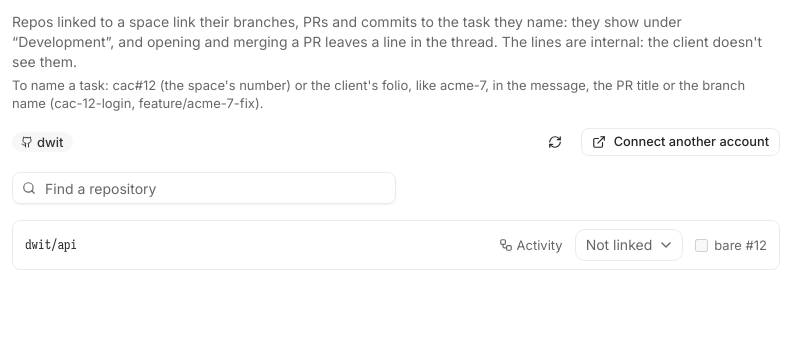
Test: la pestaña GitHub › un repo se enlaza sólo a un espacio de esta org con tareas
Click the dropdown named "dwit/api".
click(629, 245)  # box [575,229,683,261]
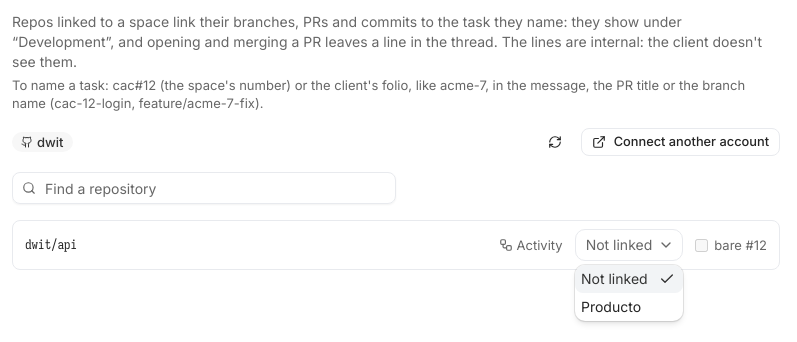
Check: the number of options is 2, box [575,265,683,293]; [581,298,641,315]
Check: the text "Producto" is shown, box [581,297,651,317]
Press Escape in the dropdown named "dwit/api", box [575,229,683,261]
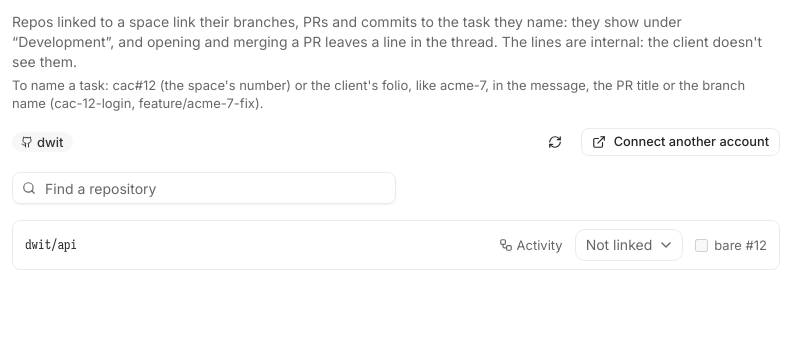
Check: the checkbox labelled "bare #12" is disabled, box [695,238,708,252]
Click the dropdown named "dwit/api".
click(629, 245)  # box [575,229,683,261]
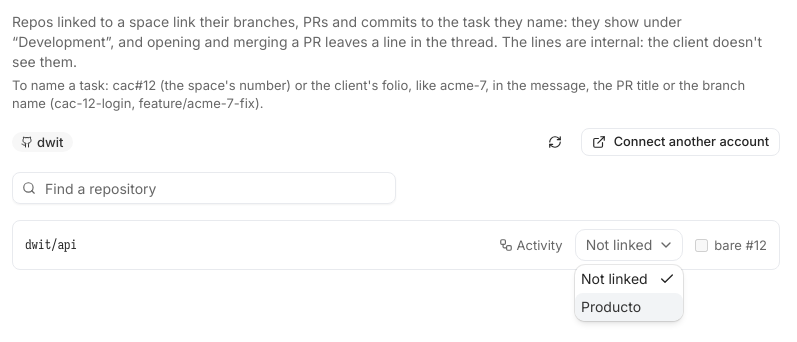
Click the option "Producto".
click(629, 307)  # box [575,293,683,321]
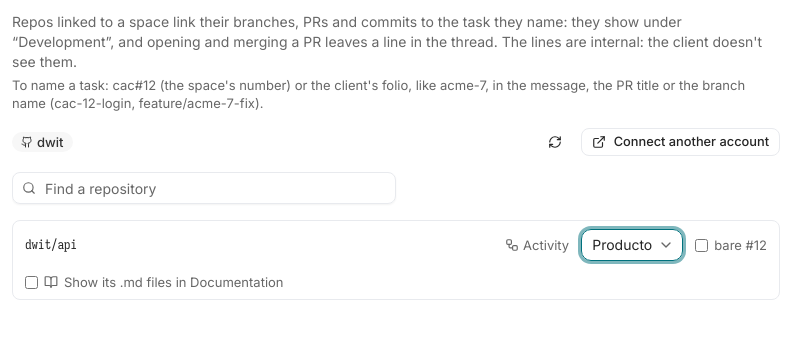
Check: the checkbox labelled "bare #12" is enabled, box [695,238,708,252]
